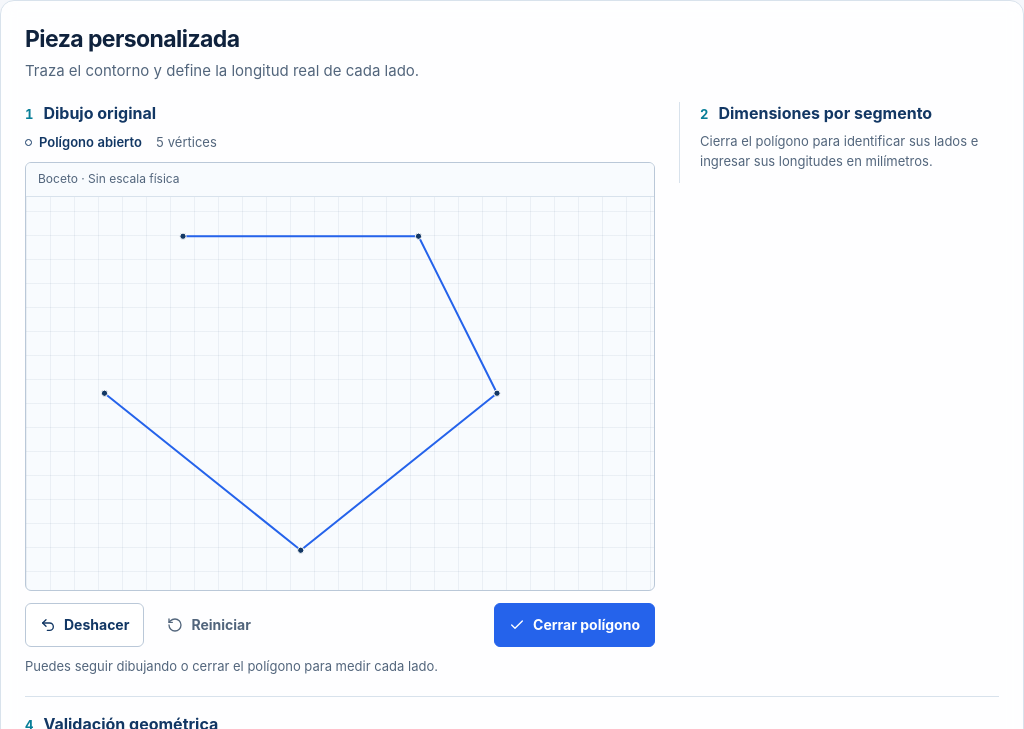
Test: HU-007 T02 — dimensiones y selección (caja negra) › T02-C02: una medida deja preview provisional y cuatro campos pendientes vacíos
Click the button "Cerrar polígono": [575, 625] box [494,603,655,647]
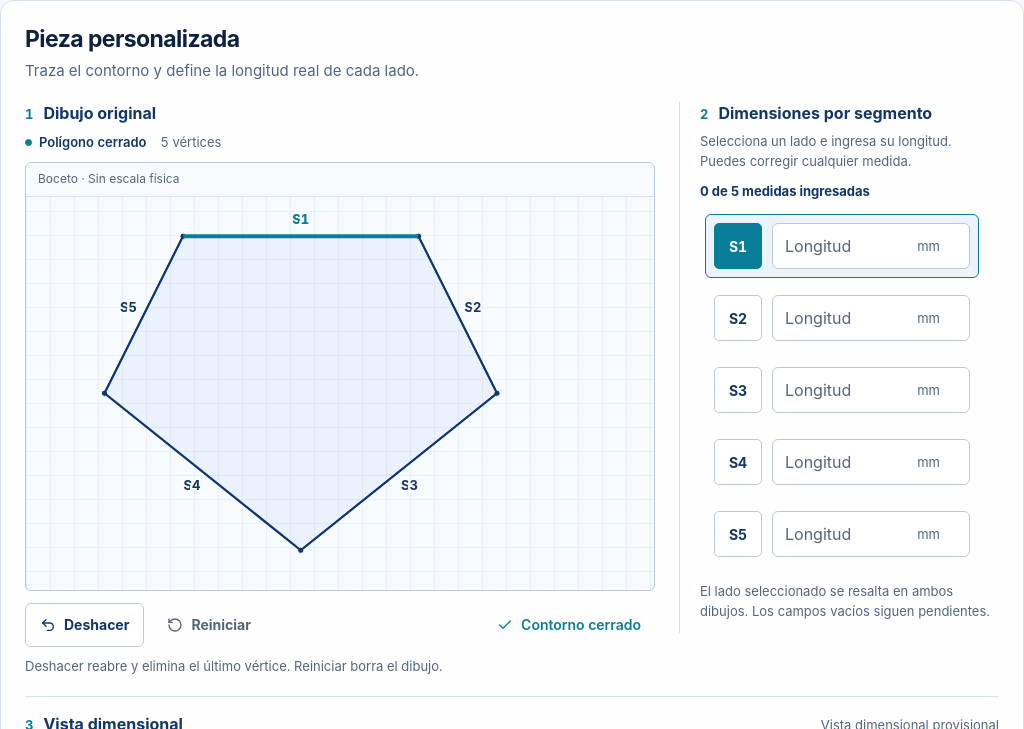
In the 1st number field with placeholder "Longitud": [871, 246] box [772,223,970,269], type "850"
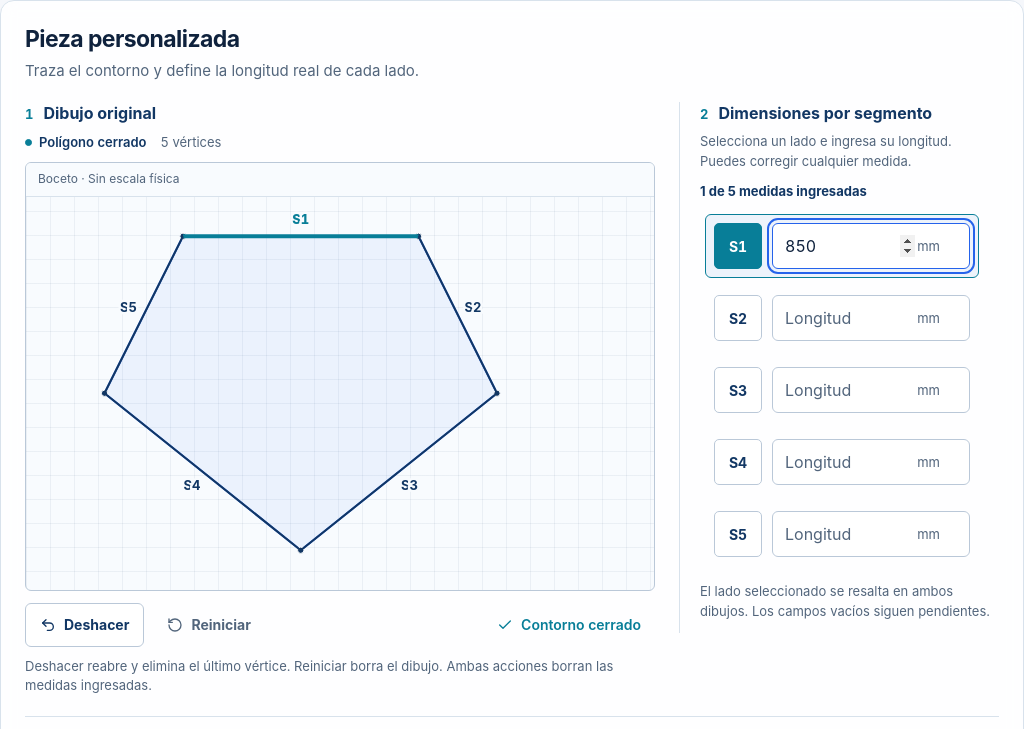
Result: the text "1 de 5 medidas ingresadas" is shown at [700,183,867,199]
Click the button "S3": [738, 390] box [714,367,762,413]
(page scrolled)
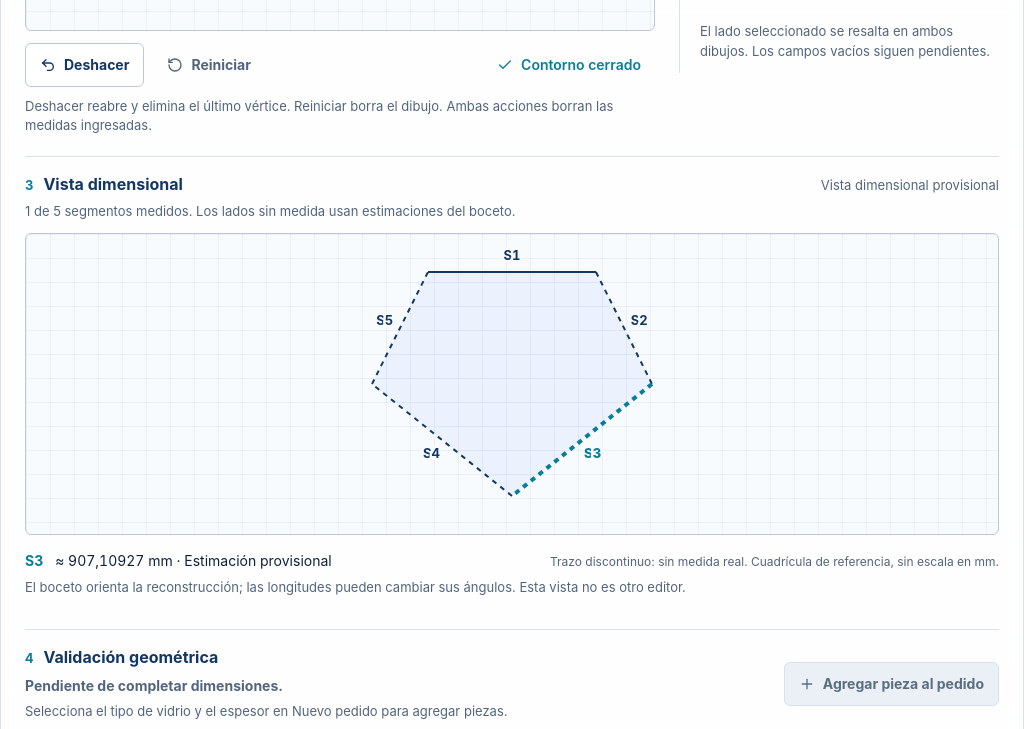
Result: the picture named "Vista dimensional provisional" is shown at [26,234,998,534]
Result: the text "≈ 907,10927 mm · Estimación provisional" is shown at [55,552,332,569]
